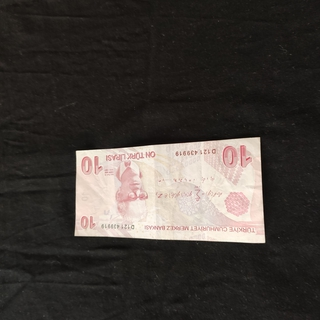10TLBack: (72, 135, 267, 244)
